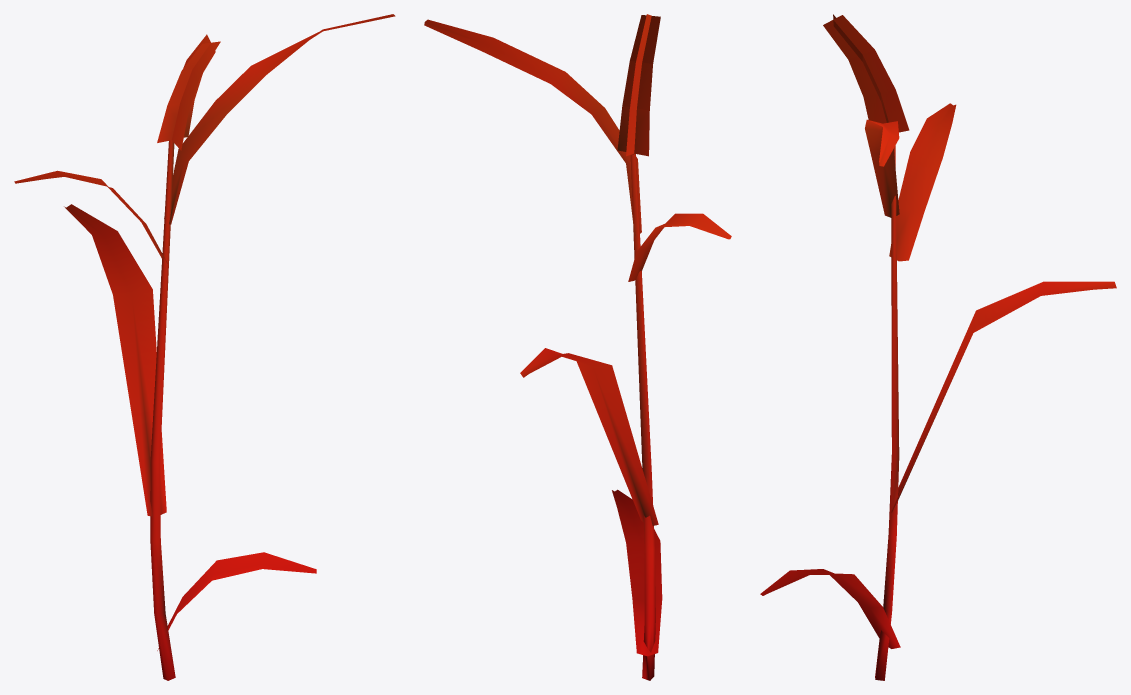
The model's file is SM_WheatPlants_8.fbx.
3 renders of one model, left to right at view 1: azimuth 30°, elevation 25°; view 2: azimuth 150°, elevation 25°; view 3: azimuth 270°, elevation 25°, orthographic. The views are drawn at different scales.
Visible parts, largest first — view 1: SM_WheatPlants_8; view 2: SM_WheatPlants_8; view 3: SM_WheatPlants_8.
Boxes of the visible parts, x1,y1,x2,y2 form: SM_WheatPlants_8: [14, 14, 395, 680]; SM_WheatPlants_8: [424, 14, 731, 680]; SM_WheatPlants_8: [760, 14, 1116, 680].
Size of the model in its own units: 0.8542 by 1.55 by 0.7417.
